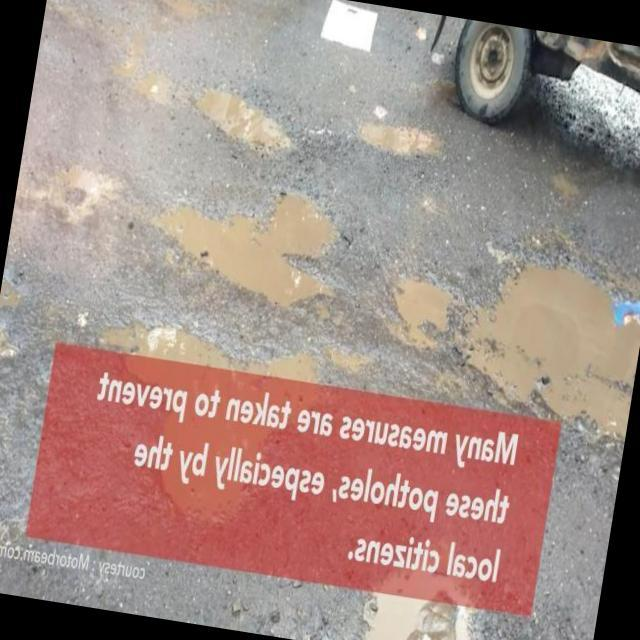Burst: (395, 264, 619, 444), (155, 183, 343, 311), (203, 85, 298, 161), (359, 116, 440, 161)
